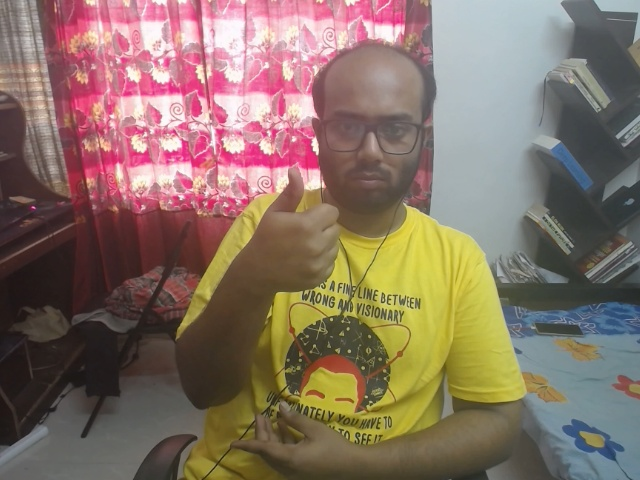six: (237, 158, 351, 304)
